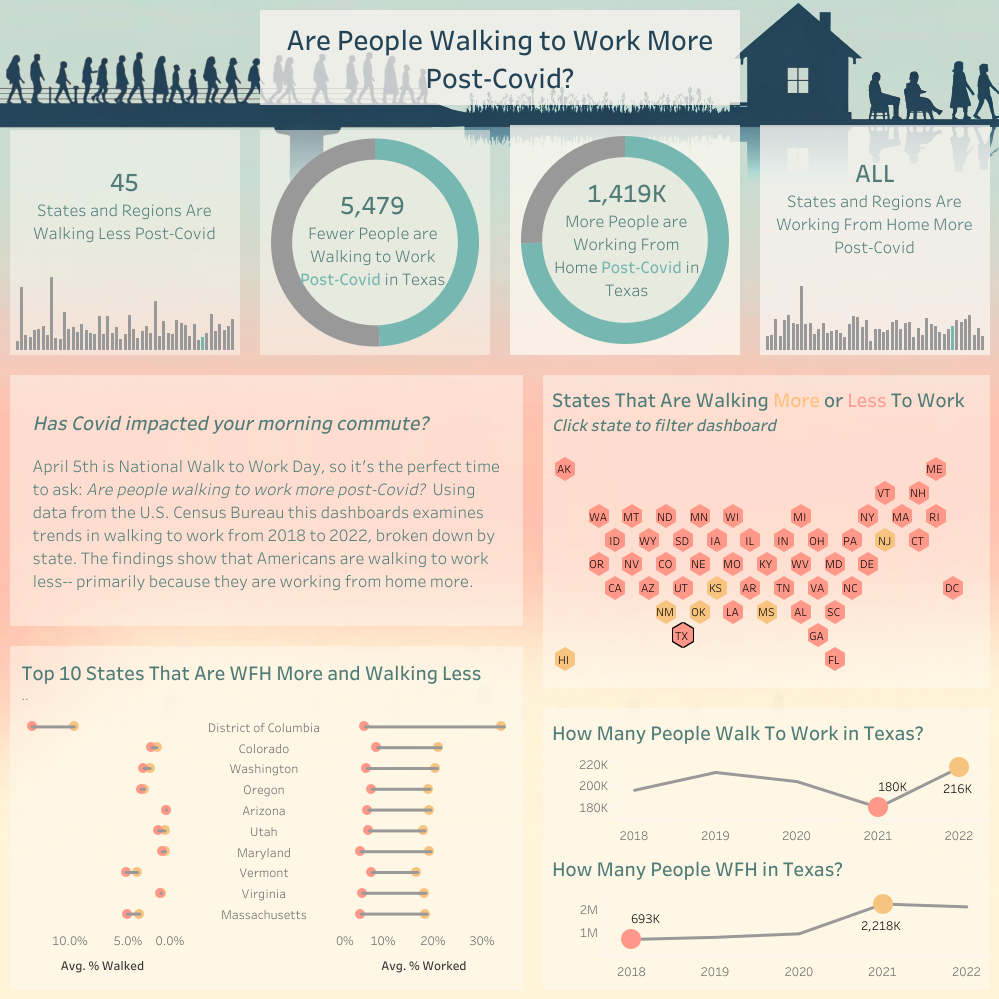

This screenshot's page, from the dashboard's own definition file:
{"tool":"tableau","page":{"name":"Dashboard 1","canvas":[1000,1000],"ordinal":0},"visuals":[{"type":"image","param":"C:/Users/SalomeGrasland/Desktop/Bench/WalkingToWork/DALL·E_2024-04-03_13.06.13_-","box":[0,0,1000,1000]},{"type":"blank","box":[0,0,250,115]},{"type":"text","box":[250,0,500,115]},{"type":"blank","box":[750,0,250,115]},{"type":"legend","title":"Spark BAr","param":"[federated.0op266q0wvpoax1dnhdqy0f8q1f3].[none:Calculation_1581889372821327877:n","box":[832,8,160,66]},{"type":"parameter","param":"[Parameters].[Parameter 1]","box":[832,74,160,52]},{"type":"worksheet","title":"Walking Donut","mark":"Pie","rows":["Calculation_2413929403942531085","Calculation_2413929403942531085"],"box":[250,115,250,250]},{"type":"worksheet","title":"Working Donut","mark":"Pie","rows":["Calculation_2413929403942531085","Calculation_2413929403942531085"],"box":[500,115,250,250]},{"type":"legend","title":"Walking Donut","param":"[federated.0op266q0wvpoax1dnhdqy0f8q1f3].[Year (group)]","box":[832,126,160,66]},{"type":"worksheet","title":"Walking KPI (3)","mark":"Automatic","box":[765,130,220,153]},{"type":"worksheet","title":"Walking KPI (2)","mark":"Automatic","box":[15,135,220,138]},{"type":"worksheet","title":"Walking KPI","mark":"Automatic","box":[296,166,154,145]},{"type":"worksheet","title":"WFH KPI","mark":"Automatic","box":[550,166,154,145]},{"type":"legend","title":"Walking Donut","param":"[federated.0op266q0wvpoax1dnhdqy0f8q1f3].[sum:Walked:qk]","box":[832,192,160,46]},{"type":"worksheet","title":"Spark BAr","mark":"Automatic","rows":["2021 - 2022 Avg Walked"],"cols":["State"],"box":[15,273,220,77]},{"type":"worksheet","title":"Spark BAr (2)","mark":"Automatic","rows":["2021 - 2022 Avg Worked"],"cols":["State"],"box":[765,283,220,67]},{"type":"text","box":[0,365,533,271]},{"type":"worksheet","title":"Map (2)","mark":"Shape","rows":["Row"],"cols":["Column"],"box":[533,365,467,333]},{"type":"text","box":[15,651,503,61]},{"type":"worksheet","title":"Barbell Walked","mark":"Automatic","rows":["State"],"cols":["% Walked","% Walked"],"box":[15,712,175,273]},{"type":"worksheet","title":"Barbell WFH","mark":"Automatic","rows":["State"],"cols":["% Worked","% Worked"],"box":[190,712,328,273]},{"type":"worksheet","title":"Line Chart Walkeds","mark":"Line","rows":["Walked","Calculation_2413929403944378382"],"cols":["Year"],"box":[548,713,437,136]},{"type":"worksheet","title":"Line Chart WFHs","mark":"Line","rows":["Worked","Min/Max (copy)_2413929403945676816"],"cols":["Year"],"box":[548,849,437,136]}]}

Visuals, with their boxes in screenshot pixels (x1, y1, x2, y2), scaled from the page's 1000x1000 canvas onto the 999x999 screenshot:
image: 0,0,998,998
blank: 0,0,250,115
text: 250,0,749,115
blank: 749,0,998,115
"Spark BAr" legend: 831,8,991,74
parameter: 831,74,991,126
"Walking Donut" worksheet (Pie marks): 250,115,500,365
"Working Donut" worksheet (Pie marks): 500,115,749,365
"Walking Donut" legend: 831,126,991,192
"Walking KPI (3)" worksheet: 764,130,984,283
"Walking KPI (2)" worksheet: 15,135,235,273
"Walking KPI" worksheet: 296,166,450,311
"WFH KPI" worksheet: 549,166,703,311
"Walking Donut" legend: 831,192,991,238
"Spark BAr" worksheet: 15,273,235,350
"Spark BAr (2)" worksheet: 764,283,984,350
text: 0,365,532,635
"Map (2)" worksheet (Shape marks): 532,365,998,697
text: 15,650,517,711
"Barbell Walked" worksheet: 15,711,190,984
"Barbell WFH" worksheet: 190,711,517,984
"Line Chart Walkeds" worksheet (Line marks): 547,712,984,848
"Line Chart WFHs" worksheet (Line marks): 547,848,984,984
